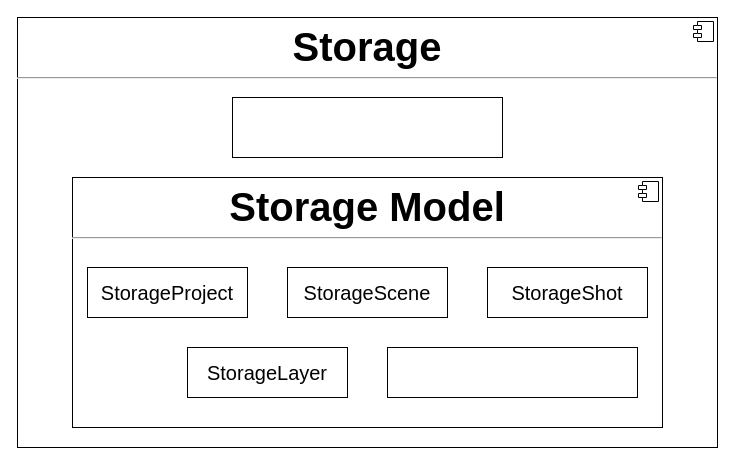
This 735x465 diagram has some shape labels left out. The shapes that lost their labels are listed below. From the top down, each one's centre as x and y in pixels, then its label:
At point 367,127: "Model Manager".
At point 512,372: "StorageLayerComponent".
